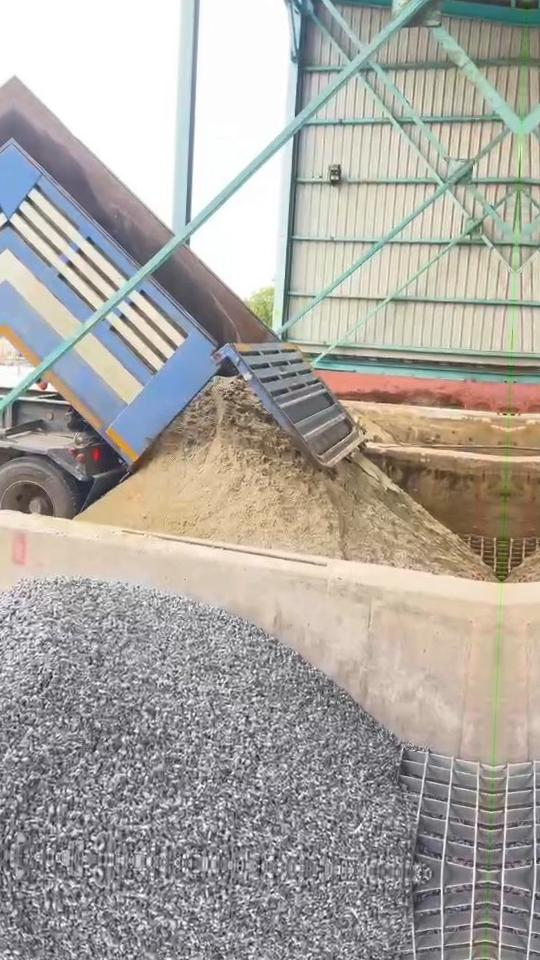gravel: (0, 578, 417, 872)
sand: (78, 379, 494, 579), (351, 408, 397, 443)
